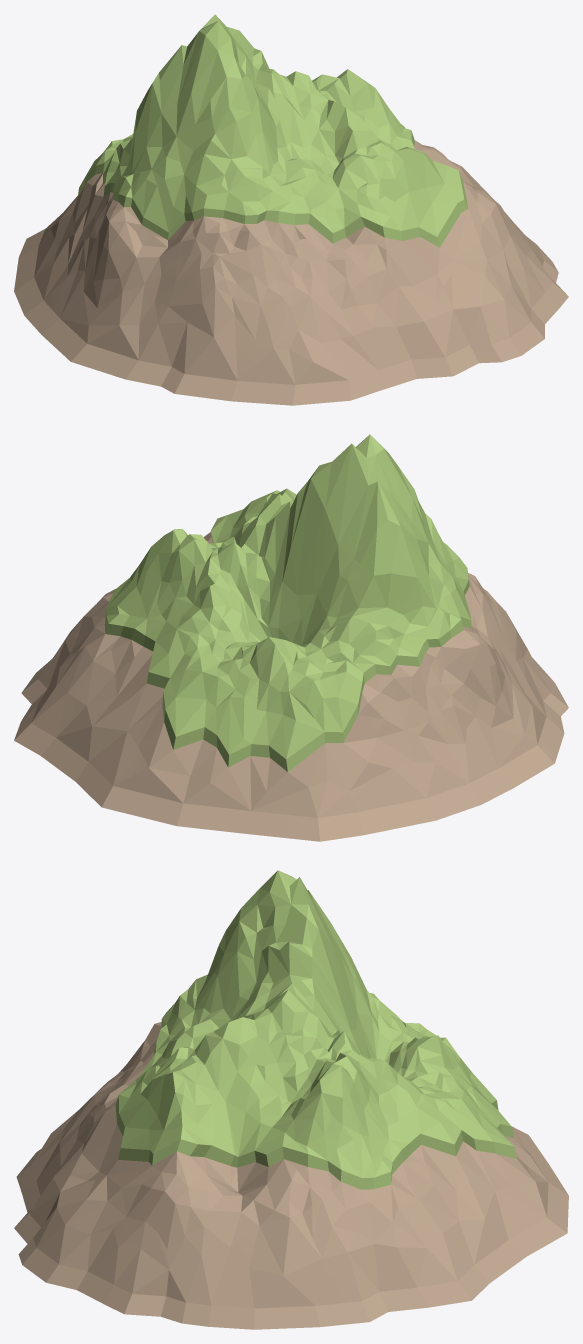
File: floating_moss_1.glb
3 renders of one model, top to bottom at view 1: azimuth 30°, elevation 25°; view 2: azimuth 150°, elevation 25°; view 3: azimuth 270°, elevation 25°, orthographic. The views are drawn at different scales.
Visible parts, largest first — view 1: PP_Forest_Mountain_Moss_01; view 2: PP_Forest_Mountain_Moss_01; view 3: PP_Forest_Mountain_Moss_01.
Boxes of the visible parts, x1,y1,x2,y2 form: PP_Forest_Mountain_Moss_01: (14,14,568,405); PP_Forest_Mountain_Moss_01: (14,434,568,841); PP_Forest_Mountain_Moss_01: (14,870,568,1329).
Bounding box in the file's own units: 35.48 × 20.94 × 34.73.
